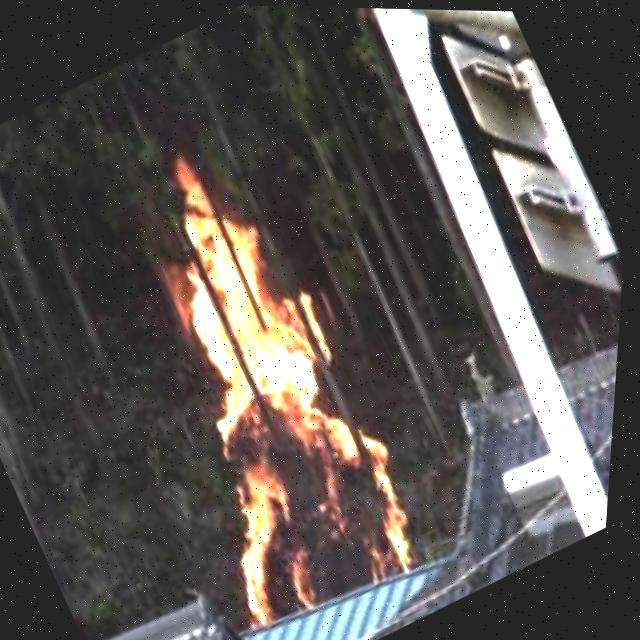Fire: (18, 87, 471, 640)
